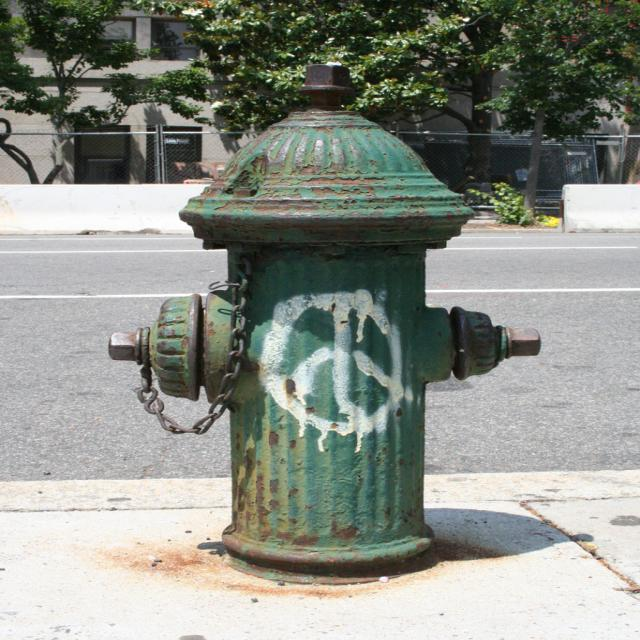fire_hydrant: (108, 60, 542, 582)
